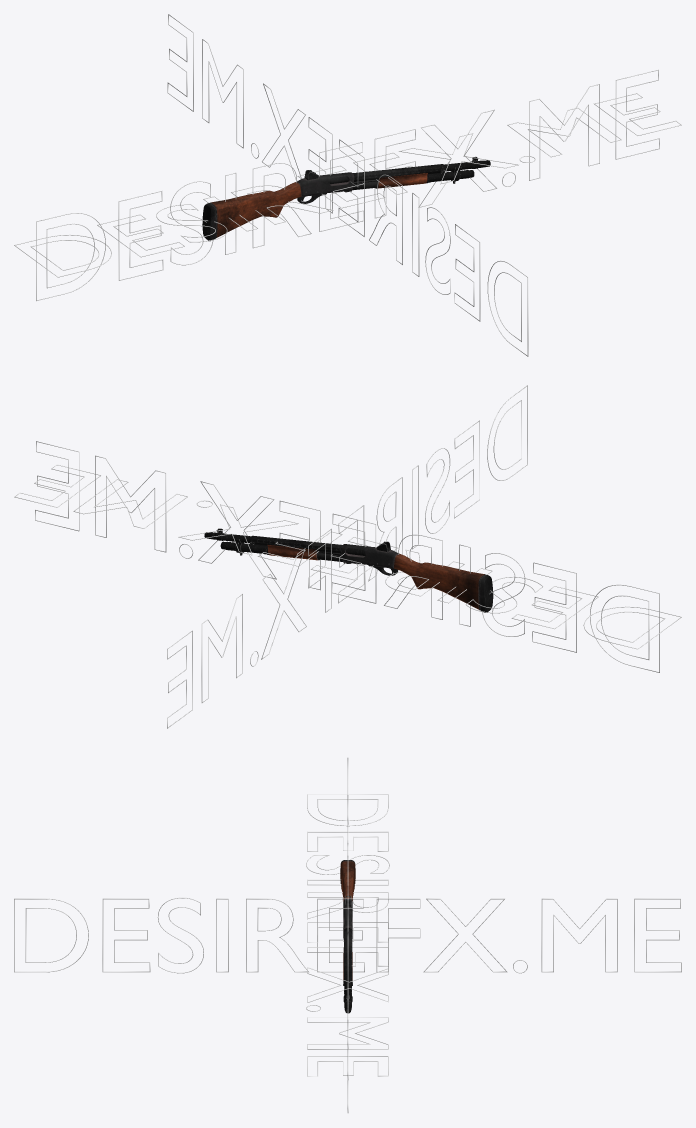
Rendered from Remington 870 Magnum Shotgun Low-poly 3D model.fbx.
The picture shows the model from 3 angles, top to bottom: view 1: azimuth 30°, elevation 25°; view 2: azimuth 150°, elevation 25°; view 3: azimuth 270°, elevation 25°; orthographic projection. The views are drawn at different scales.
Visible parts, largest first — view 1: Text.001, Text.003, Text.004, desirefx_me_1, desirefx_me_11, desirefx_me_4, desirefx_me_2; view 2: Text.001, Text.003, Text.004, desirefx_me_1, desirefx_me_11, desirefx_me_4, desirefx_me_2; view 3: Text.003, Text.004, desirefx_me_11, Text.001, desirefx_me_1.
Boxes of the visible parts, box(x1,y1,x2,y2) form: Text.001: box(36, 69, 659, 300); Text.003: box(167, 14, 528, 356); Text.004: box(14, 93, 681, 277); desirefx_me_1: box(202, 182, 301, 241); desirefx_me_11: box(329, 156, 490, 184); desirefx_me_4: box(352, 167, 474, 190); desirefx_me_2: box(297, 172, 354, 196); Text.001: box(35, 441, 659, 672); Text.003: box(167, 385, 527, 728); Text.004: box(14, 464, 681, 649); desirefx_me_1: box(394, 553, 493, 612); desirefx_me_11: box(204, 528, 365, 555); desirefx_me_4: box(220, 538, 342, 561); desirefx_me_2: box(341, 544, 398, 568); Text.003: box(14, 897, 681, 973); Text.004: box(306, 794, 389, 1076); desirefx_me_11: box(344, 928, 352, 1013); Text.001: box(347, 758, 348, 1112); desirefx_me_1: box(340, 860, 355, 901).
Bounding box in the file's own units: 2202 × 275 × 2202.
Materials: 17 (17 with a texture image).
